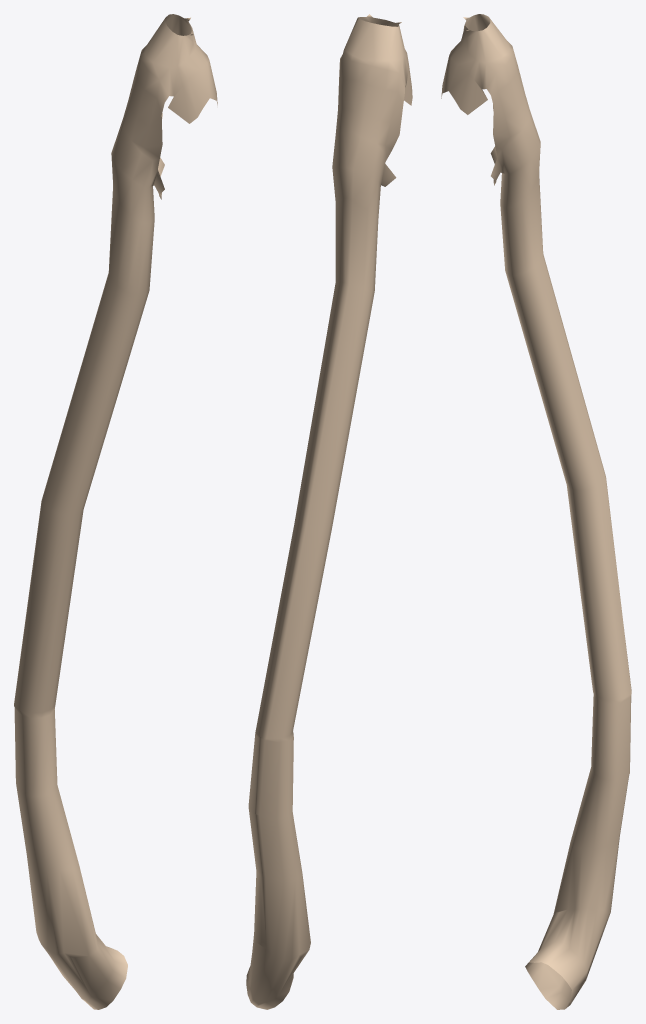
File: esofago.fbx
3 renders of one model, left to right at view 1: azimuth 90°, elevation 25°; view 2: azimuth 150°, elevation 25°; view 3: azimuth 270°, elevation 25°, orthographic. The views are drawn at different scales.
Visible parts, largest first — view 1: esofago; view 2: esofago; view 3: esofago.
Part boxes in pixels (x1,y1,x2,y2): esofago: [14, 14, 217, 1009]; esofago: [246, 14, 412, 1009]; esofago: [441, 14, 631, 1009].
Bounding box in the file's own units: 0.9398 × 7.39 × 1.33.
